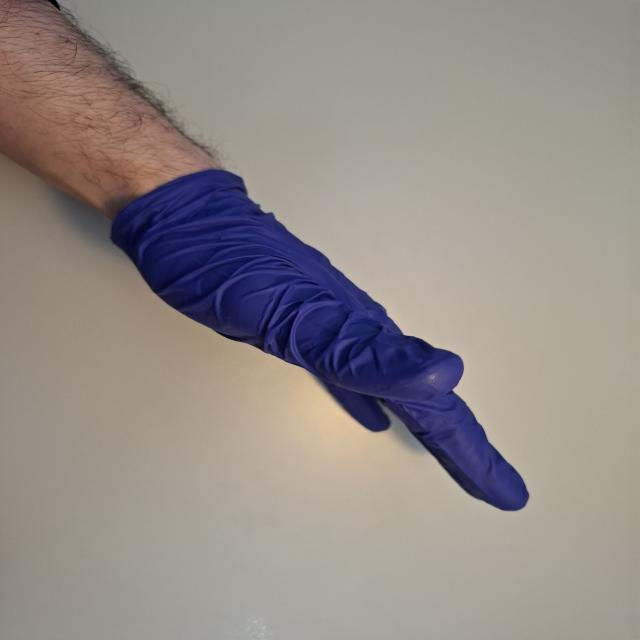glove_on: (106, 166, 532, 513)
